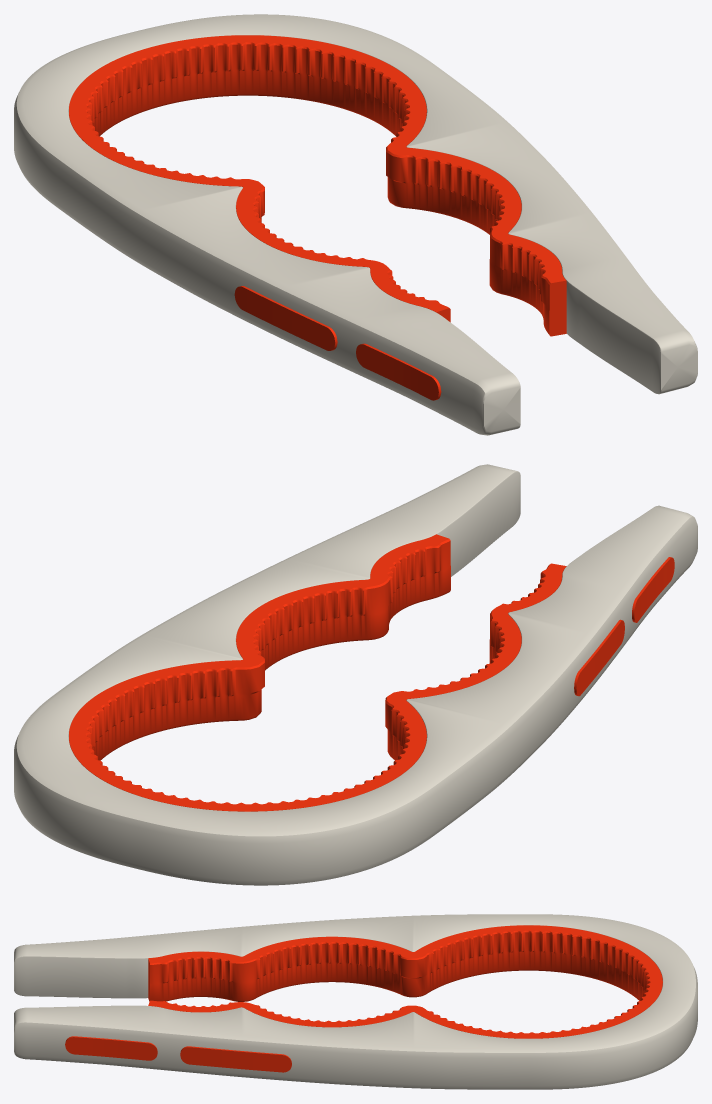
3 views of the same model, one above another, from view 1: azimuth 30°, elevation 25°; view 2: azimuth 150°, elevation 25°; view 3: azimuth 270°, elevation 25° (orthographic). The views are drawn at different scales.
Parts seen in each view (by area): view 1: part_000_Structural_frame, part_001_Stepped_gripping_liner, part_004_Left_upper_grip_pad, part_005_Left_lower_grip_pad; view 2: part_000_Structural_frame, part_001_Stepped_gripping_liner, part_004_Left_upper_grip_pad, part_005_Left_lower_grip_pad; view 3: part_000_Structural_frame, part_001_Stepped_gripping_liner, part_002_Right_upper_grip_pad, part_003_Right_lower_grip_pad.
Boxes of the visible parts, x1,y1,x2,y2 form: part_000_Structural_frame: [14, 14, 697, 435]; part_001_Stepped_gripping_liner: [69, 35, 566, 336]; part_004_Left_upper_grip_pad: [234, 286, 337, 350]; part_005_Left_lower_grip_pad: [356, 343, 441, 400]; part_000_Structural_frame: [14, 464, 697, 885]; part_001_Stepped_gripping_liner: [69, 534, 566, 811]; part_004_Left_upper_grip_pad: [574, 619, 624, 696]; part_005_Left_lower_grip_pad: [632, 557, 674, 622]; part_000_Structural_frame: [14, 914, 697, 1089]; part_001_Stepped_gripping_liner: [148, 925, 662, 1038]; part_002_Right_upper_grip_pad: [180, 1046, 291, 1072]; part_003_Right_lower_grip_pad: [65, 1036, 157, 1060].
Bounding box in the file's own units: 0.104 × 0.014 × 0.214.
